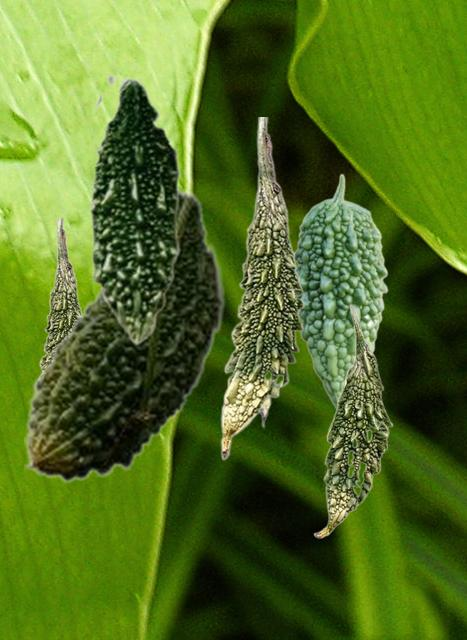ampalaya: (24, 184, 225, 482), (220, 117, 304, 460), (89, 73, 186, 346), (295, 173, 387, 409), (313, 303, 392, 537), (38, 218, 81, 369)
